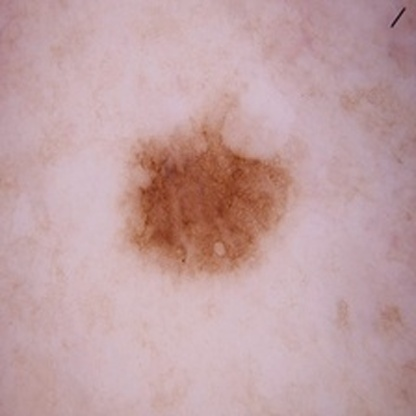malignant: (140, 135, 292, 263)
